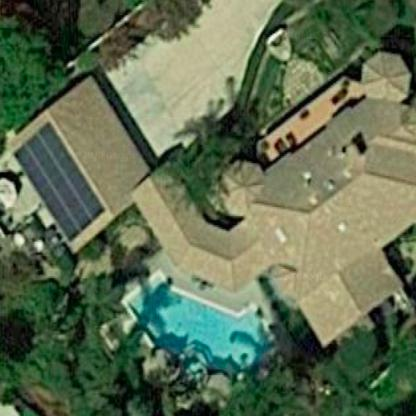solar_panel: (8, 118, 107, 244)
swimming_pool: (96, 263, 284, 392)
